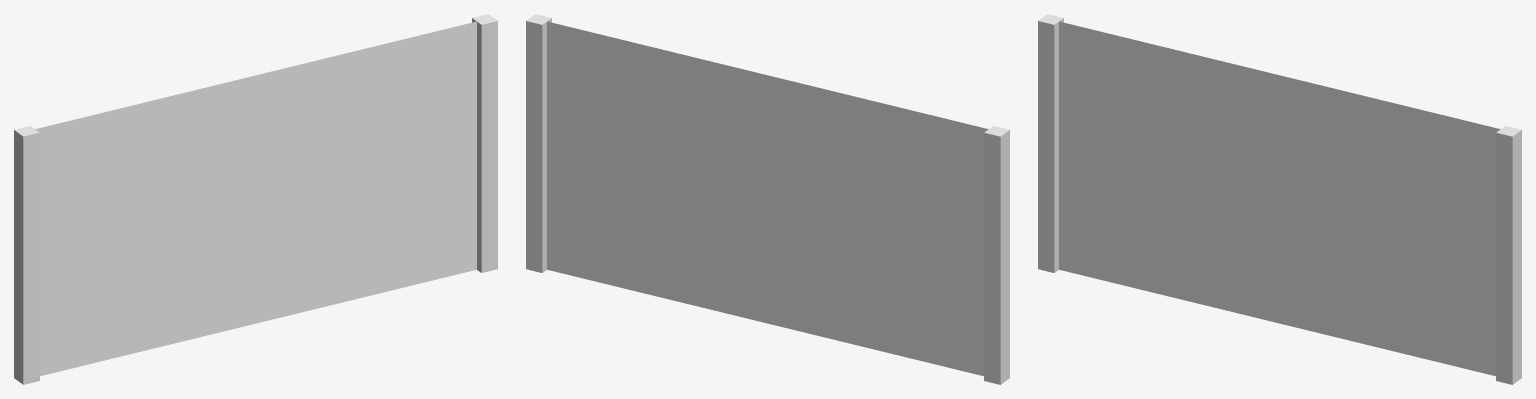
Rendered from fenceStraight.glb.
The picture shows the model from 3 angles, left to right: view 1: azimuth 30°, elevation 25°; view 2: azimuth 150°, elevation 25°; view 3: azimuth 330°, elevation 25°; orthographic projection.
Visible parts, largest first — view 1: fenceStraight(Clone); view 2: fenceStraight(Clone); view 3: fenceStraight(Clone).
Part boxes in pixels (box(x1,y1,x2,y2)): fenceStraight(Clone): box(14, 14, 497, 384); fenceStraight(Clone): box(526, 14, 1009, 384); fenceStraight(Clone): box(1038, 14, 1521, 384).
Bounding box in the file's own units: 1 × 0.5 × 0.0345.
1 material, 1 textured.
